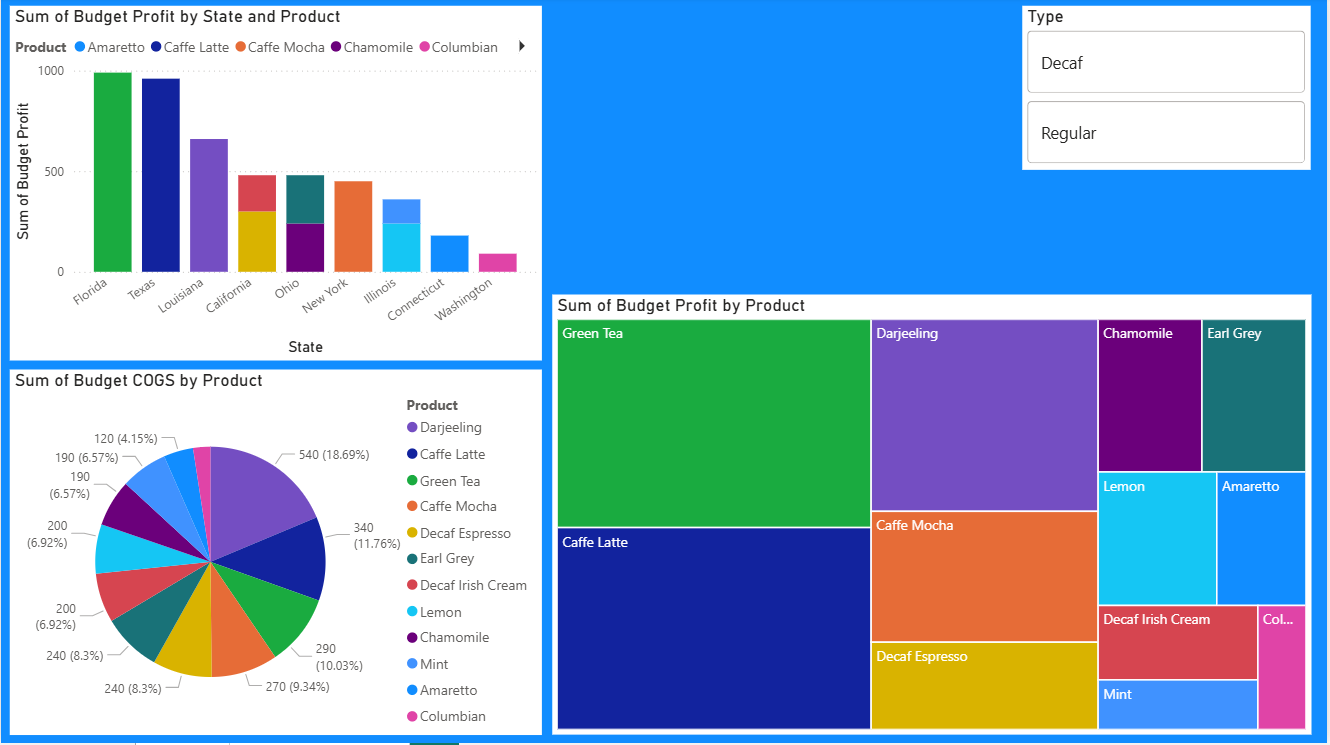

The page's visual inventory and layout, read from the dashboard file:
{"tool":"powerbi","page":{"name":"Page 1","canvas":[1280,720],"ordinal":0},"visuals":[{"type":"columnChart","fields":{"Category":["Area.State"],"Y":["Sum(Sales.Budget Profit)"],"Series":["Products.Product"]},"box":[8.8,8.8,513.8,342.5],"z":0},{"type":"pieChart","fields":{"Y":["Sum(Sales.Budget COGS)"],"Category":["Products.Product"]},"box":[8.8,360,513.8,352.5],"z":1000},{"type":"treemap","fields":{"Values":["Sum(Sales.Budget Profit)"],"Group":["Products.Product"]},"box":[532.5,287.5,732.5,425],"z":2000},{"type":"advancedSlicerVisual","fields":{"Values":["Products.Type"]},"box":[986.2,8.8,278.8,158.8],"z":3000}]}

Visuals, with their boxes in screenshot pixels (x1, y1, x2, y2), scaled from the page's 1280x720 canvas onto the 1330x745 screenshot:
columnChart - Area.State x Sum(Sales.Budget Profit): [left=9, top=9, right=543, bottom=363]
pieChart - Sum(Sales.Budget COGS) x Products.Product: [left=9, top=373, right=543, bottom=737]
treemap - Sum(Sales.Budget Profit) x Products.Product: [left=553, top=297, right=1314, bottom=737]
advancedSlicerVisual - Products.Type: [left=1025, top=9, right=1314, bottom=173]
